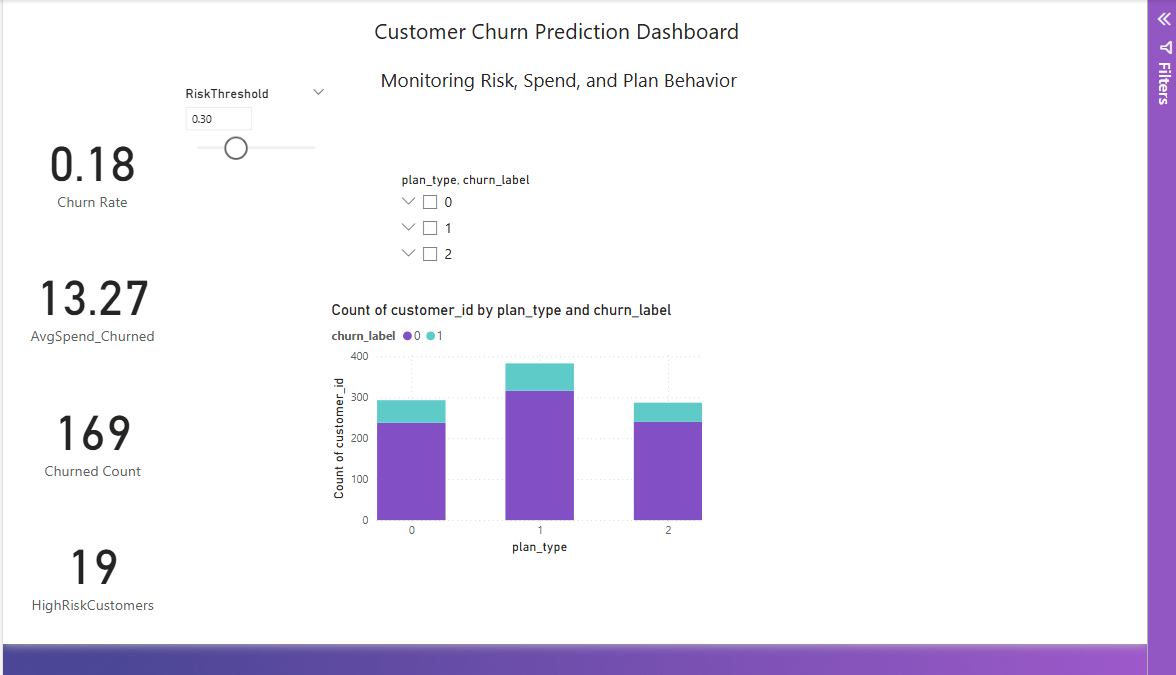

The page's visual inventory and layout, read from the dashboard file:
{"tool":"powerbi","page":{"name":"Page 1","canvas":[1280,720],"ordinal":0},"visuals":[{"type":"card","fields":{"Values":["churn_predictions.Churn Rate"]},"box":[9.8,112.3,180,150],"z":0},{"type":"card","fields":{"Values":["churn_predictions.AvgSpend_Churned"]},"box":[9.8,262.3,180.6,150.1],"z":1},{"type":"card","fields":{"Values":["churn_predictions.Churned Count"]},"box":[9.8,412.4,180.6,150.1],"z":2},{"type":"card","fields":{"Values":["churn_predictions.HighRiskCustomers"]},"box":[9.8,562.5,180.6,150.1],"z":3},{"type":"slicer","fields":{"Values":["RiskThreshold.RiskThreshold"]},"box":[191.6,91.5,180.6,150.1],"z":4},{"type":"textbox","box":[372.2,12.2,494.2,57.3],"z":5},{"type":"textbox","box":[417.3,69.6,519.8,42.7],"z":6},{"type":"columnChart","fields":{"Series":["churn_predictions.churn_label"],"Category":["churn_predictions.plan_type"],"Y":["CountNonNull(churn_predictions.customer_id)"]},"box":[362,337,424.9,288.5],"z":7},{"type":"slicer","fields":{"Values":["churn_predictions.plan_type","churn_predictions.churn_label"]},"box":[432.8,187.5,304.3,149.5],"z":8}]}

Visuals, with their boxes on the page's 1280x720 design canvas (x1, y1, x2, y2). These are canvas units, not pixel positions in the 1176x675 screenshot, which may show the page scaled, cropped or inside an application window:
card - churn_predictions.Churn Rate: [10, 112, 190, 262]
card - churn_predictions.AvgSpend_Churned: [10, 262, 190, 412]
card - churn_predictions.Churned Count: [10, 412, 190, 562]
card - churn_predictions.HighRiskCustomers: [10, 562, 190, 713]
slicer - RiskThreshold.RiskThreshold: [192, 92, 372, 242]
textbox: [372, 12, 866, 70]
textbox: [417, 70, 937, 112]
columnChart - churn_predictions.churn_label x churn_predictions.plan_type: [362, 337, 787, 626]
slicer - churn_predictions.plan_type x churn_predictions.churn_label: [433, 188, 737, 337]
